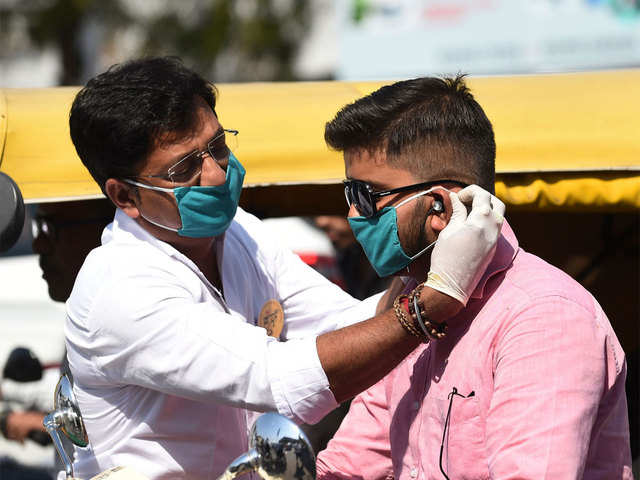with_incorrect_mask: (159, 115, 235, 234)
with_mask: (345, 162, 431, 272)
